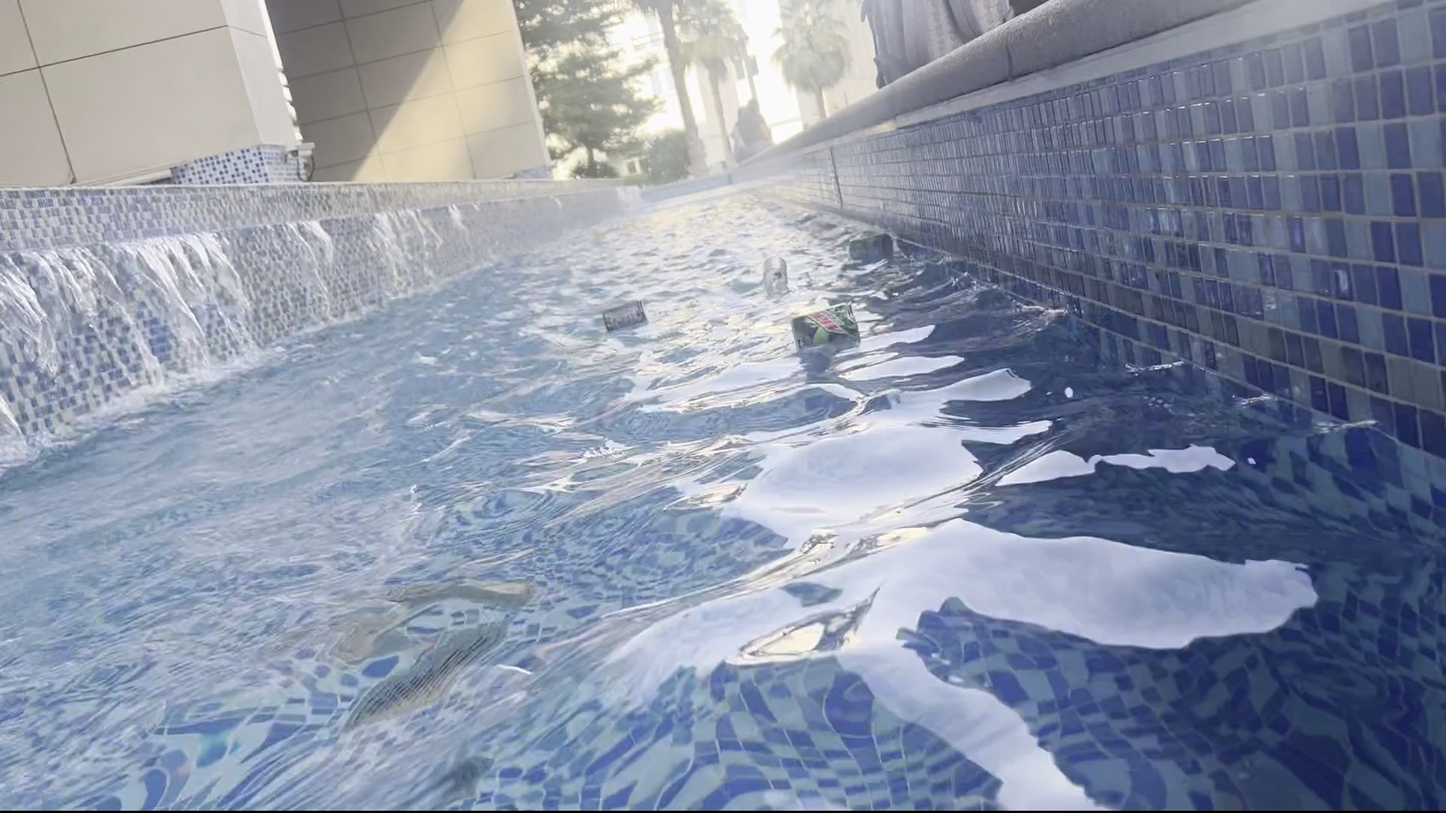debris: (785, 297, 862, 351), (597, 296, 650, 334), (844, 227, 899, 263), (756, 252, 790, 288)
